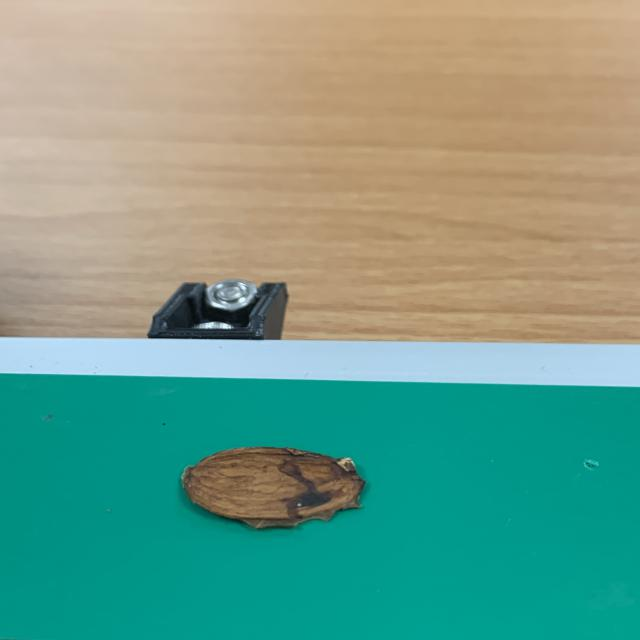Flat_cocoabeans: (143, 430, 440, 553)
